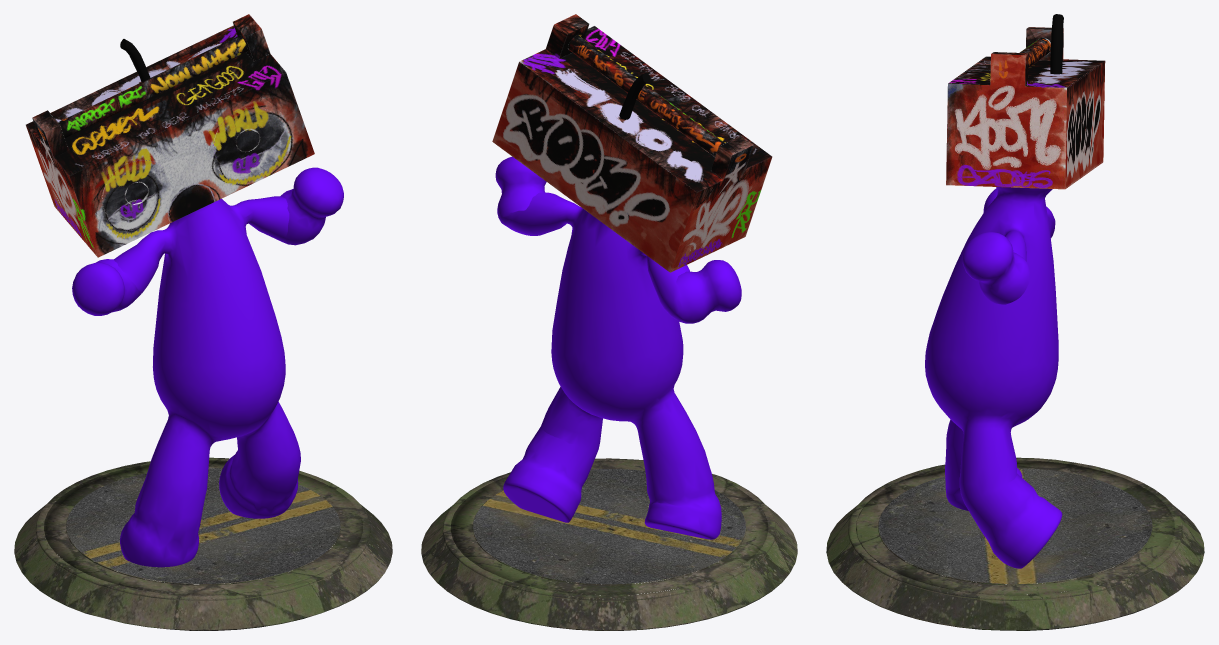
3 renders of one model, left to right at view 1: azimuth 30°, elevation 25°; view 2: azimuth 150°, elevation 25°; view 3: azimuth 270°, elevation 25°, orthographic.
Parts seen in each view (by area): view 1: BBody; view 2: BBody; view 3: BBody.
Boxes of the visible parts, x1,y1,x2,y2 form: BBody: (14, 14, 392, 630); BBody: (421, 14, 797, 630); BBody: (826, 14, 1204, 630).
Size of the model in its own units: 1.45 by 2.2 by 1.45.
Materials: 5 (3 with a texture image).
